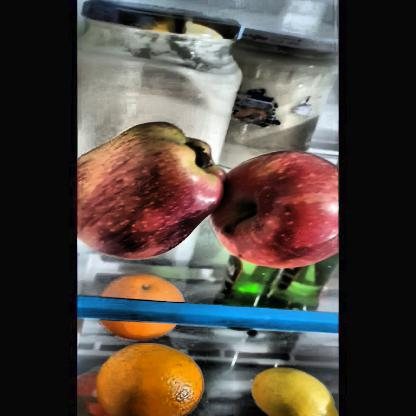apple: (81, 120, 225, 258), (213, 151, 339, 270)
lemon: (255, 368, 339, 416)
orange: (97, 344, 203, 413), (103, 274, 179, 337)
